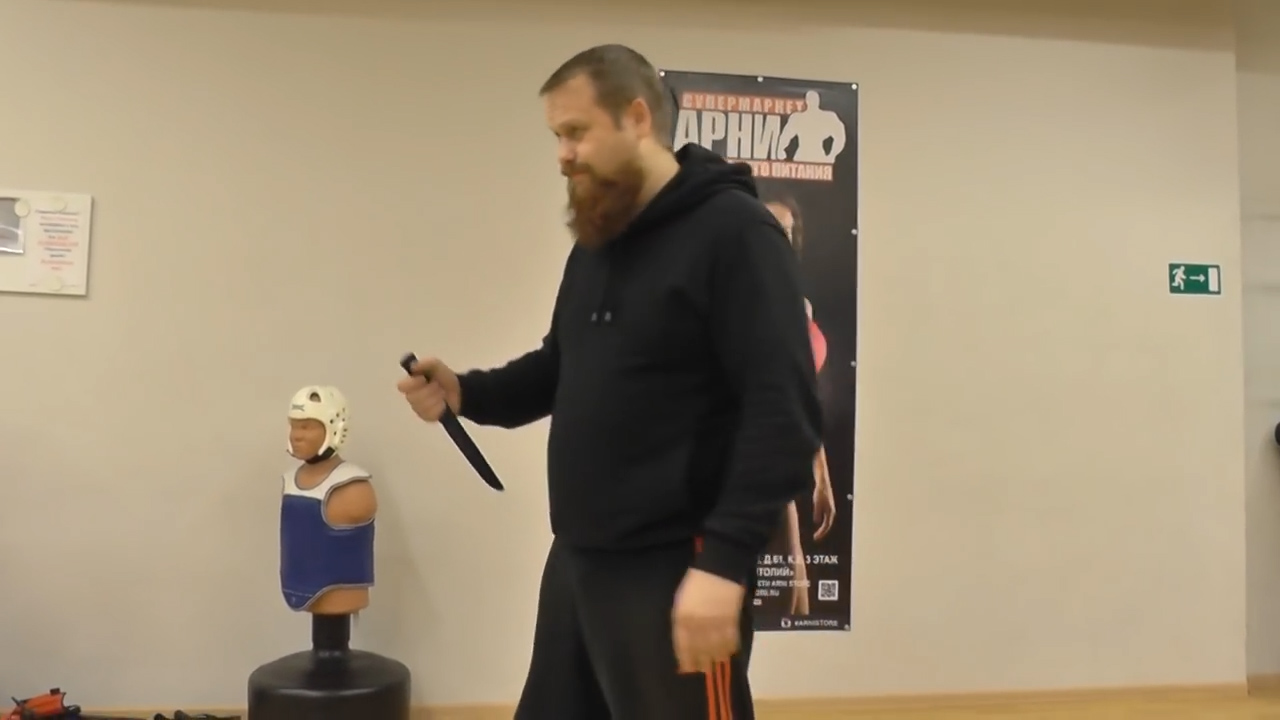knife: (395, 349, 512, 496)
